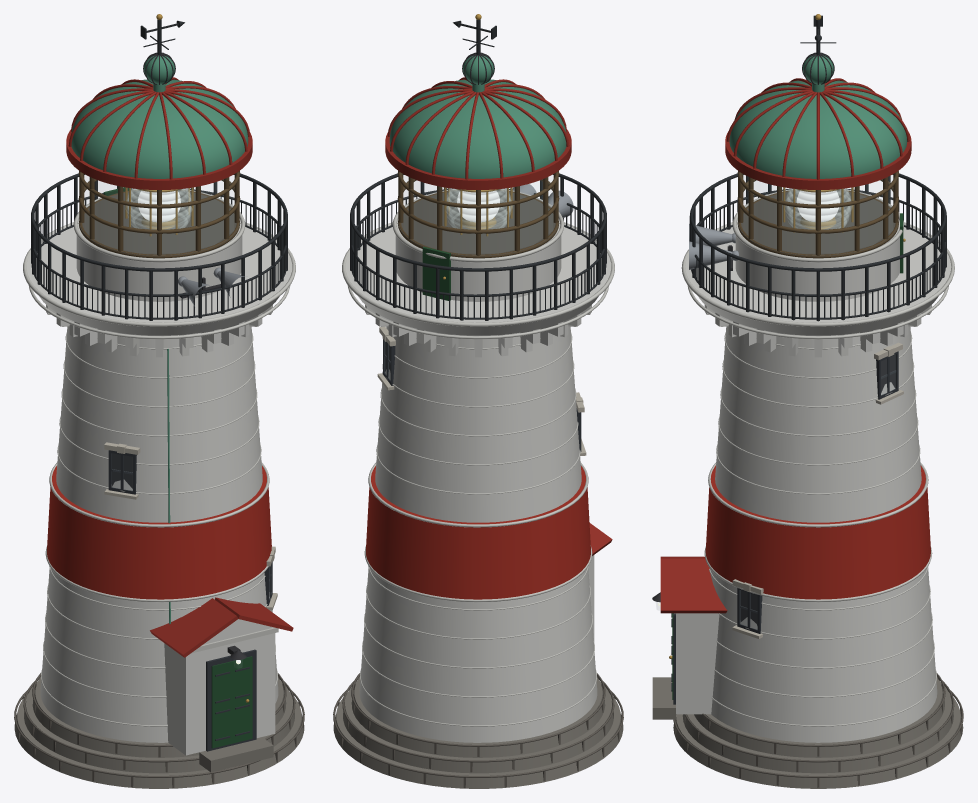
File: lighthouse.glb
The picture shows the model from 3 angles, left to right: view 1: azimuth 30°, elevation 25°; view 2: azimuth 150°, elevation 25°; view 3: azimuth 270°, elevation 25°; orthographic projection.
Visible parts, largest first — view 1: base_granite_m, lens_brass_m, lens_prism_m, lamp_light_m; view 2: base_granite_m, lens_brass_m, lens_prism_m, lamp_light_m; view 3: base_granite_m, lens_brass_m, lens_prism_m, lamp_light_m.
Part boxes in pixels (bbox=[...]): base_granite_m: bbox=[14, 77, 304, 788]; lens_brass_m: bbox=[31, 14, 287, 702]; lens_prism_m: bbox=[125, 188, 192, 229]; lamp_light_m: bbox=[138, 190, 180, 221]; base_granite_m: bbox=[333, 77, 623, 788]; lens_brass_m: bbox=[350, 14, 606, 320]; lens_prism_m: bbox=[445, 188, 512, 229]; lamp_light_m: bbox=[457, 190, 499, 221]; base_granite_m: bbox=[652, 78, 963, 788]; lens_brass_m: bbox=[652, 14, 946, 658]; lens_prism_m: bbox=[784, 188, 852, 229]; lamp_light_m: bbox=[796, 190, 839, 221].
Bounding box in the file's own units: 5.62 × 15.21 × 6.02.
